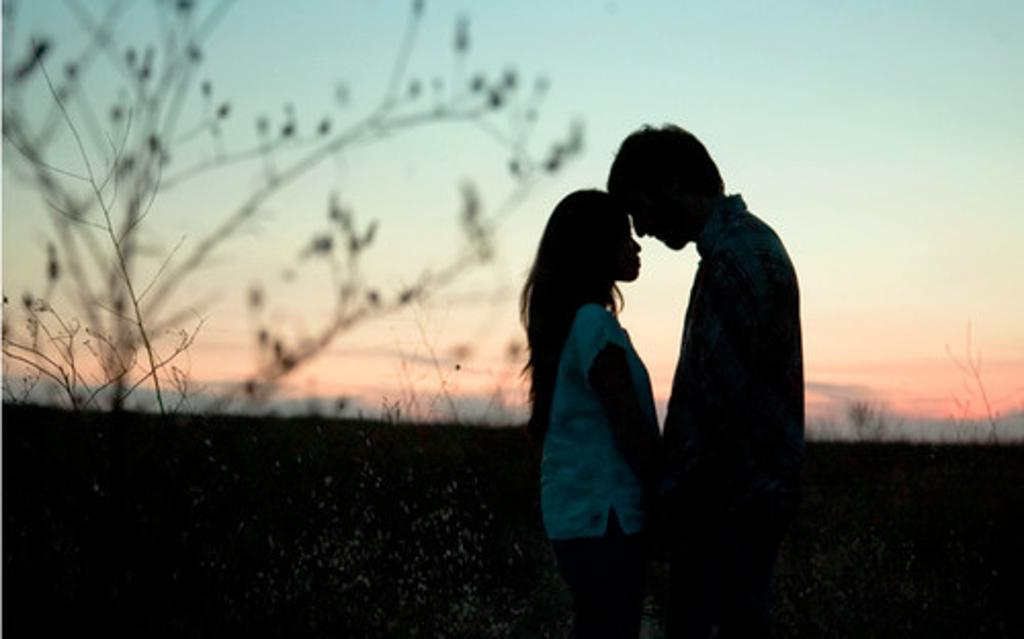face: (623, 178, 697, 252), (599, 201, 641, 281)
